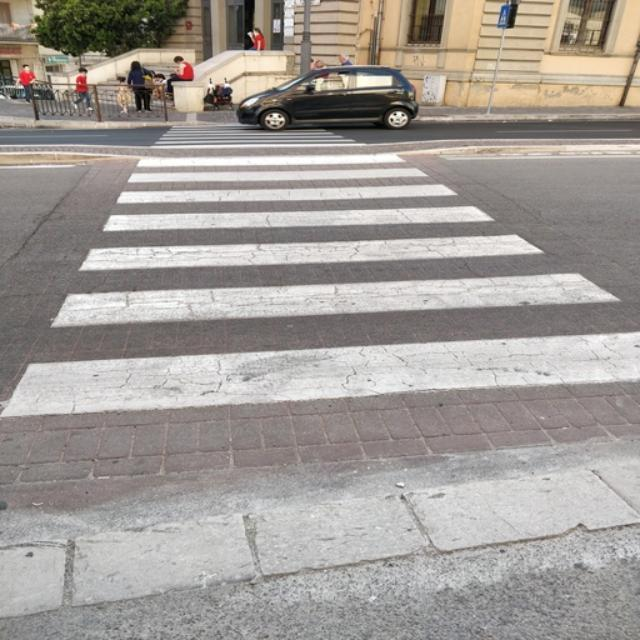sidewalk: (0, 123, 640, 421)
